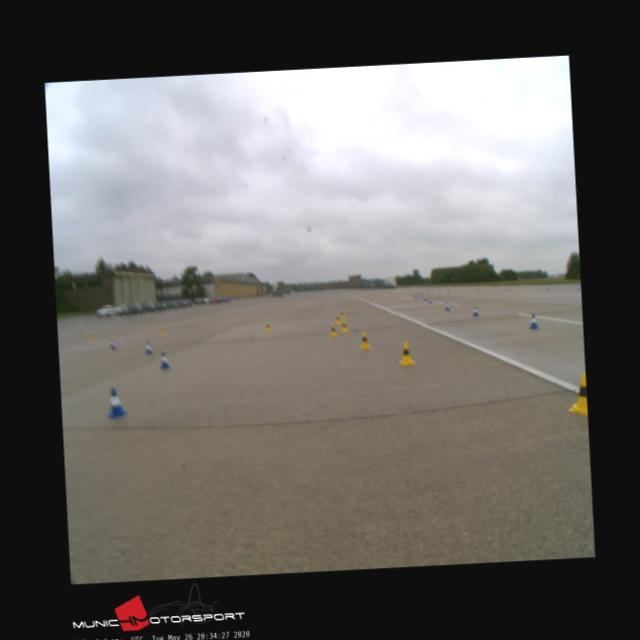blue_cone: (107, 388, 127, 417), (158, 351, 169, 370), (144, 340, 154, 356), (528, 314, 538, 328), (471, 306, 478, 316), (109, 338, 116, 348)
yellow_cone: (566, 373, 588, 414), (398, 342, 413, 366), (358, 331, 369, 348), (328, 323, 338, 336), (341, 318, 348, 332), (264, 321, 272, 332), (335, 314, 342, 324), (160, 326, 166, 334), (88, 332, 93, 340)
